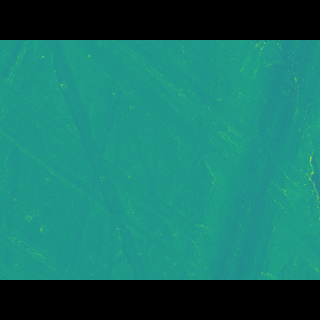Loch: (50, 69, 319, 250), (196, 70, 319, 250)
